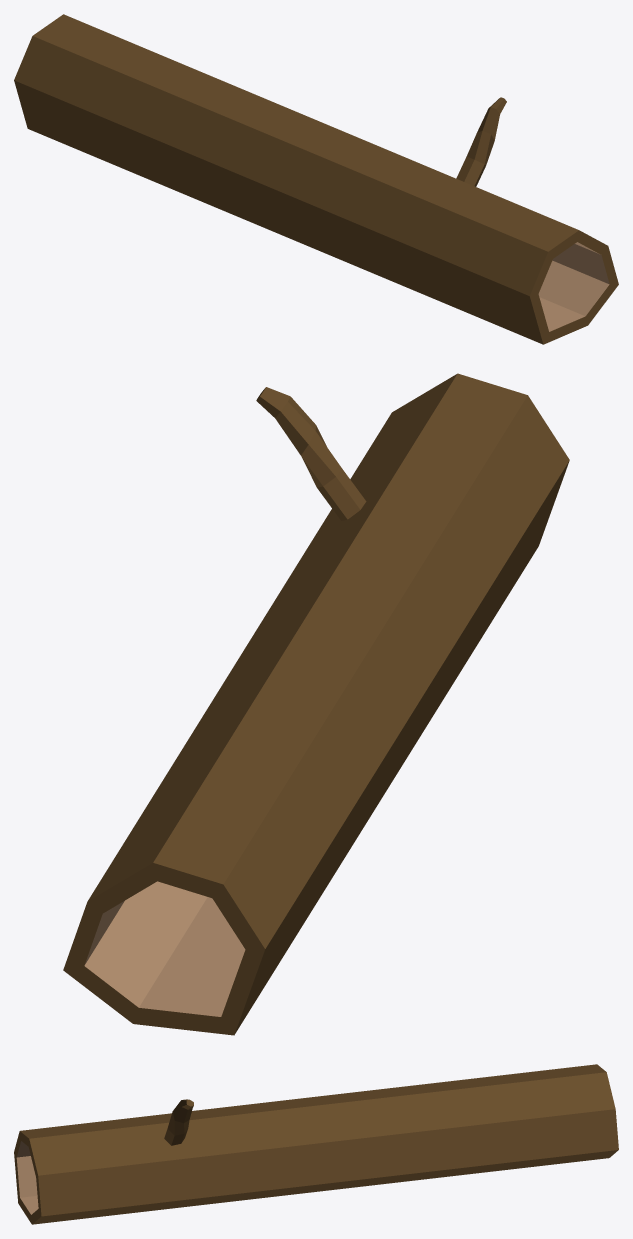
File: log.glb
3 views of the same model, one above another, from view 1: azimuth 30°, elevation 25°; view 2: azimuth 150°, elevation 25°; view 3: azimuth 270°, elevation 25° (orthographic). The views are drawn at different scales.
Visible parts, largest first — view 1: log; view 2: log; view 3: log.
Part boxes in pixels (x1,y1,x2,y2): log: (14,14,618,344); log: (63,373,569,1035); log: (14,1064,618,1224).
Bounding box in the file's own units: 1.19 × 0.6531 × 2.78.
